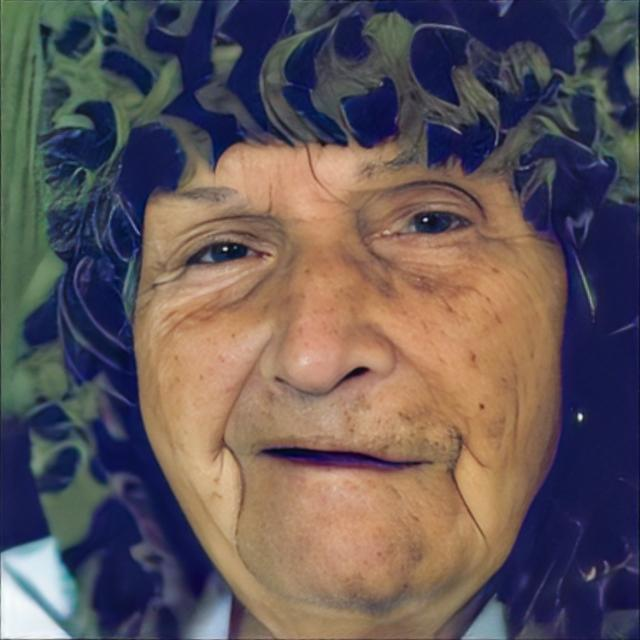content: (128, 131, 566, 640)
